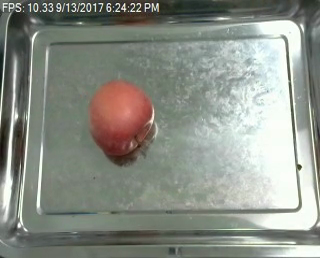Apple: (87, 74, 153, 161)
